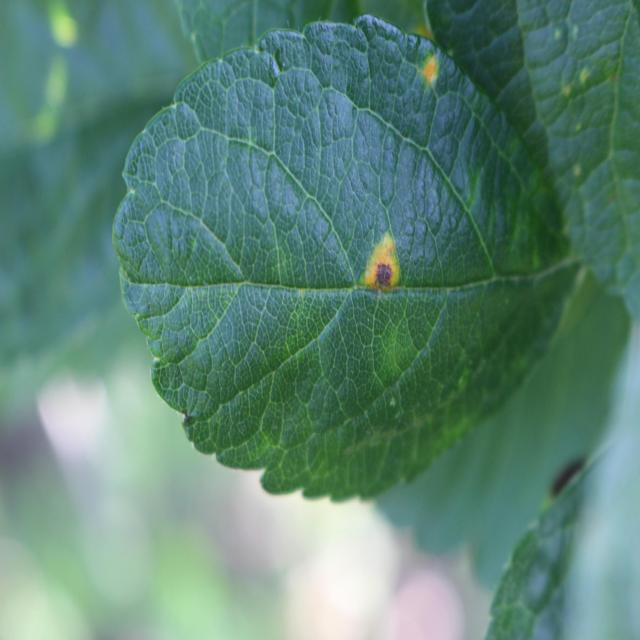rust: (112, 12, 580, 504)
